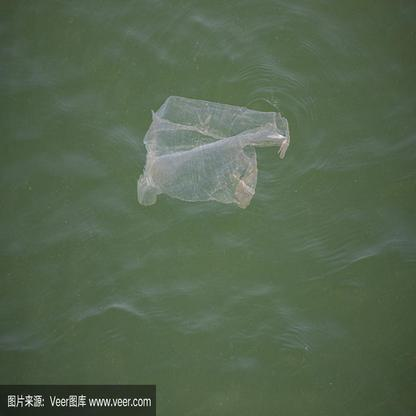plastic bag: (136, 95, 292, 213)
